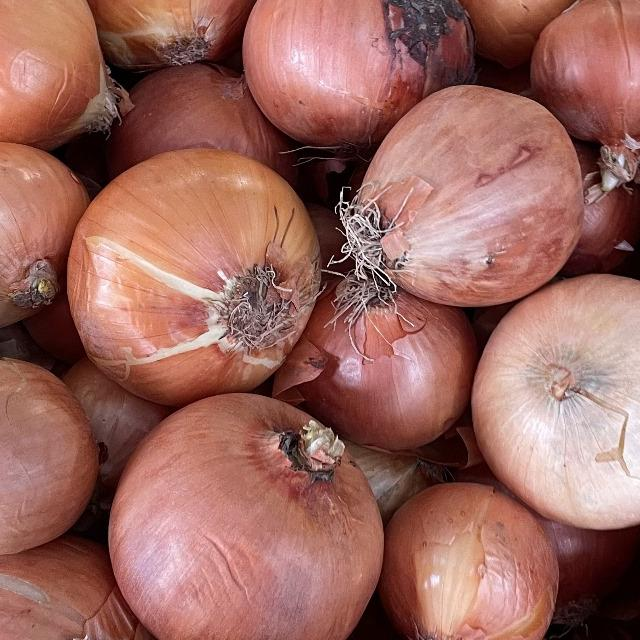onion: (85, 372, 417, 640), (55, 140, 335, 405), (457, 265, 640, 537), (0, 352, 107, 570), (522, 0, 640, 180), (0, 127, 87, 330), (75, 0, 270, 77)
